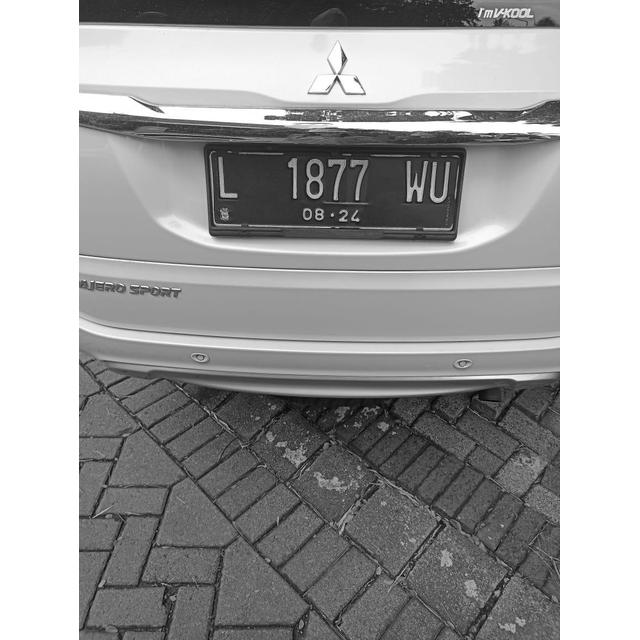license: (215, 153, 455, 232)
